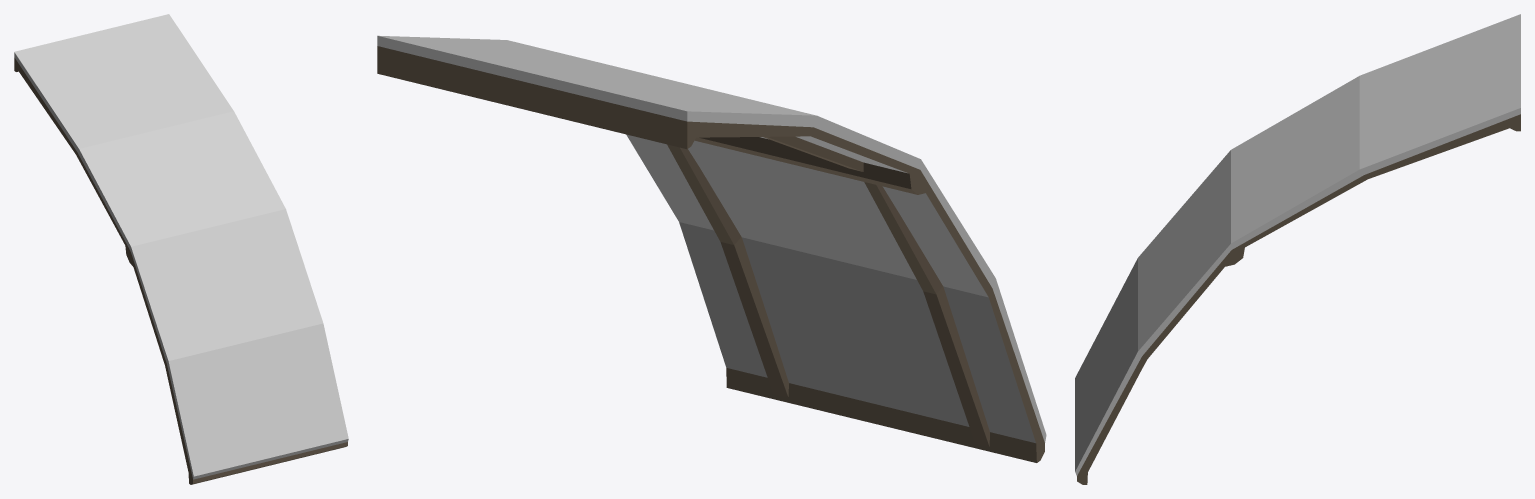
Rendered from SM_Bld_Roof_Dome_L_Straight_01.fbx.
The picture shows the model from 3 angles, left to right: view 1: azimuth 30°, elevation 25°; view 2: azimuth 150°, elevation 25°; view 3: azimuth 270°, elevation 25°; orthographic projection. The views are drawn at different scales.
Visible parts, largest first — view 1: SM_Bld_Roof_Dome_L_Straight_01; view 2: SM_Bld_Roof_Dome_L_Straight_01; view 3: SM_Bld_Roof_Dome_L_Straight_01.
Part boxes in pixels (x1,y1,x2,y2): SM_Bld_Roof_Dome_L_Straight_01: [14, 14, 348, 484]; SM_Bld_Roof_Dome_L_Straight_01: [377, 35, 1046, 462]; SM_Bld_Roof_Dome_L_Straight_01: [1075, 14, 1520, 484].
Bounding box in the file's own units: 250 × 469 × 502.
